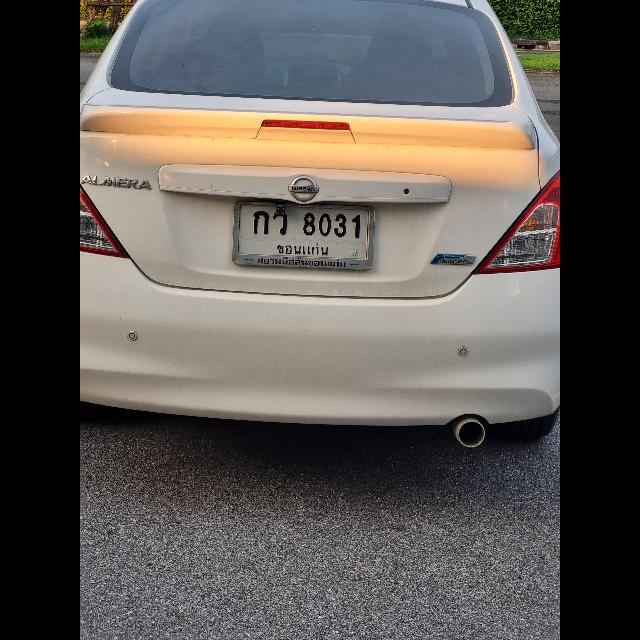licenseplate: (233, 195, 375, 272)
